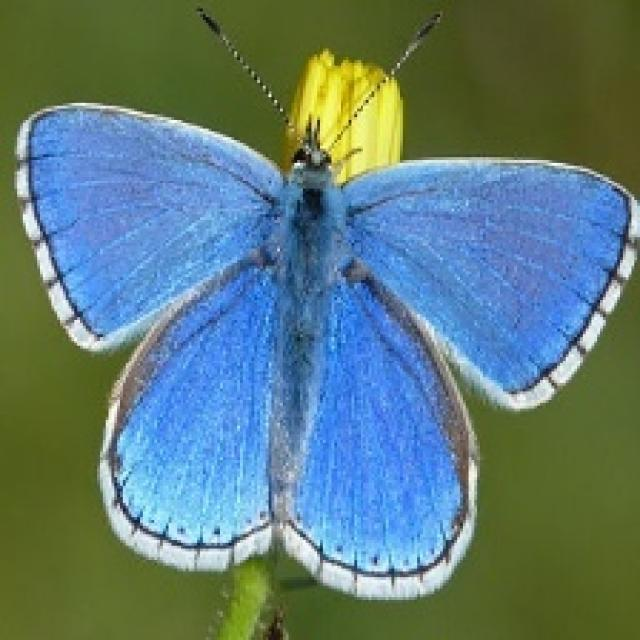butterfly: (12, 0, 637, 603)
